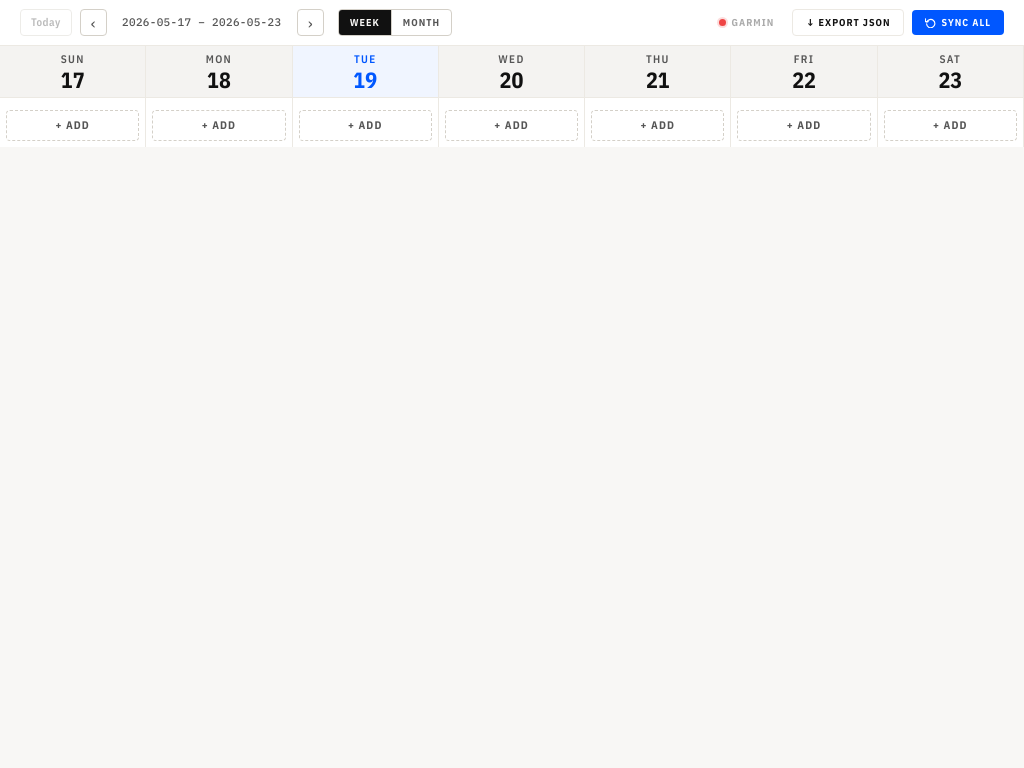
it: test_toggle_week_month › toggle → view switches
Click the button "Month" at (421, 22), box [391,10,451,35]
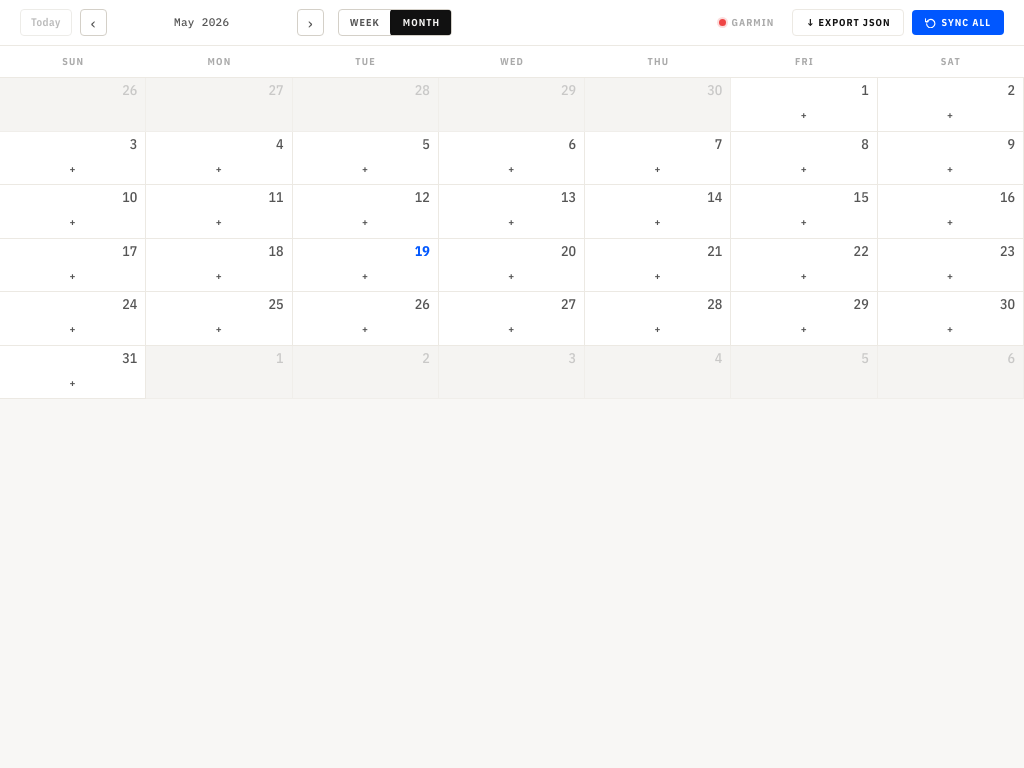
Now no elements with test id "day-column" are shown
Now the element with test id "month-grid" is shown
